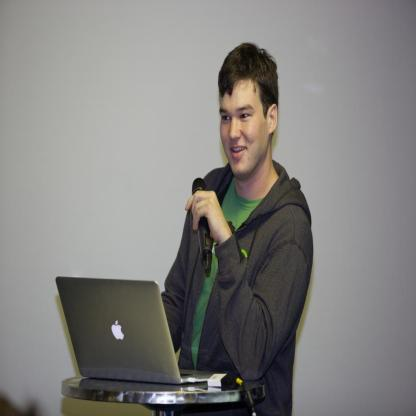board: (55, 274, 213, 386)
